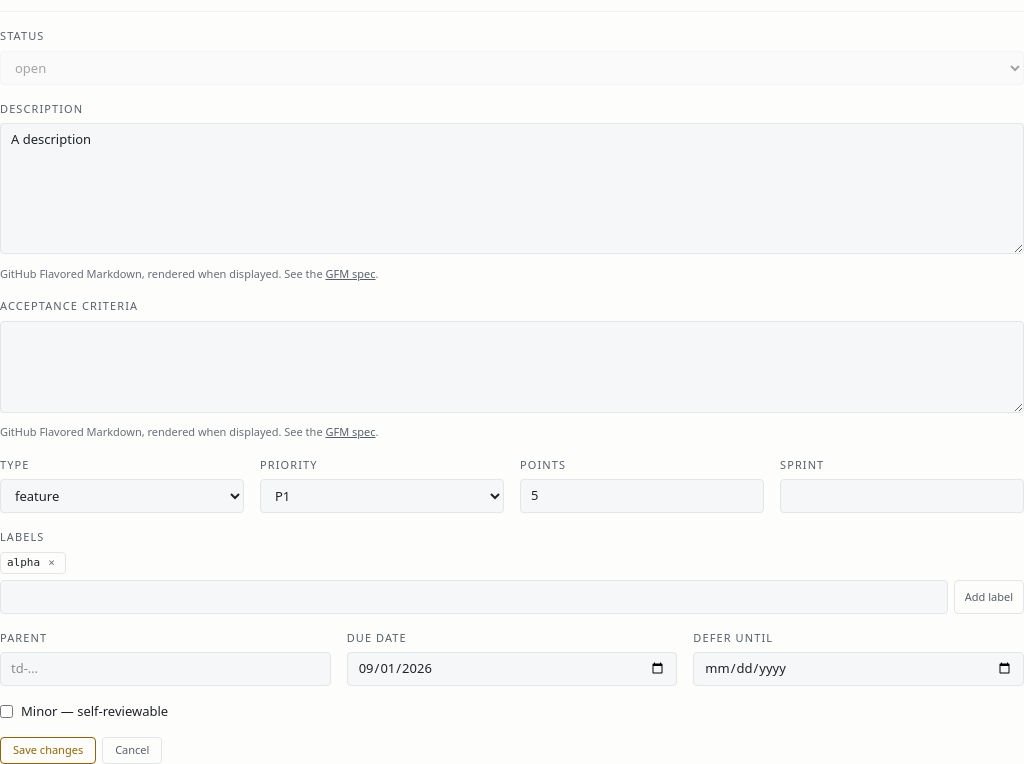
Test: IssueEditForm › shows a field error for a field the form does not bind
(page scrolled)
Click the checkbox labelled "Minor — self-reviewable". click: (6, 711)
box: x1=0 y1=705 x2=13 y2=718
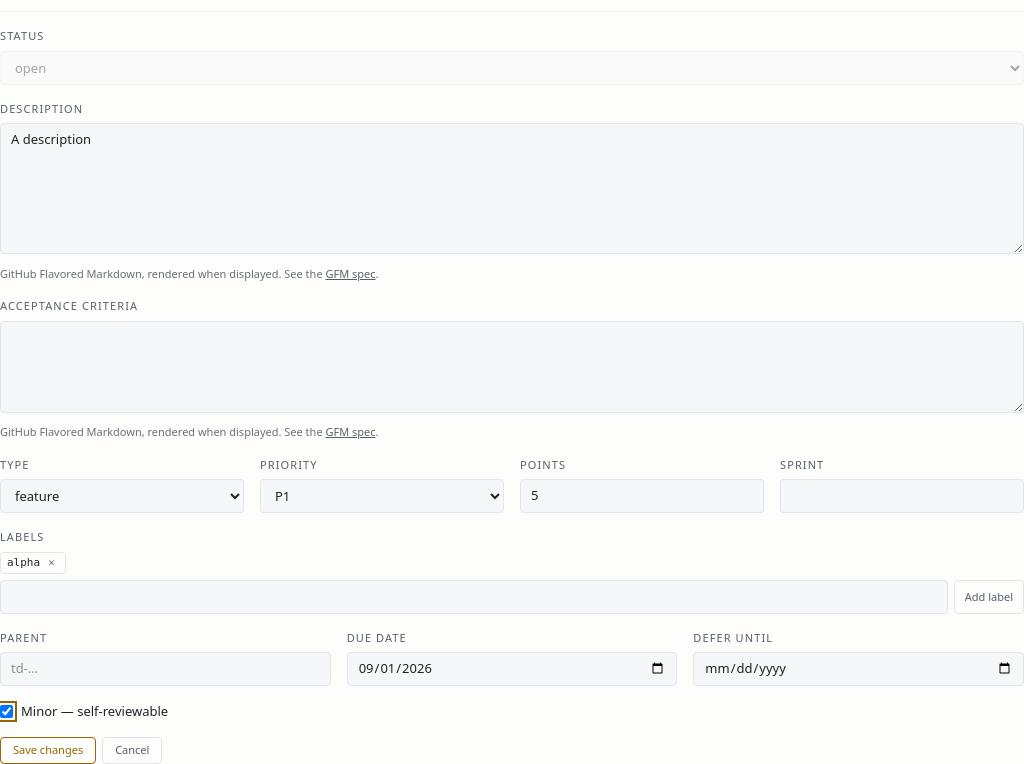
Click the button "Save changes". click: (48, 750)
box: x1=0 y1=737 x2=96 y2=763
(page scrolled)
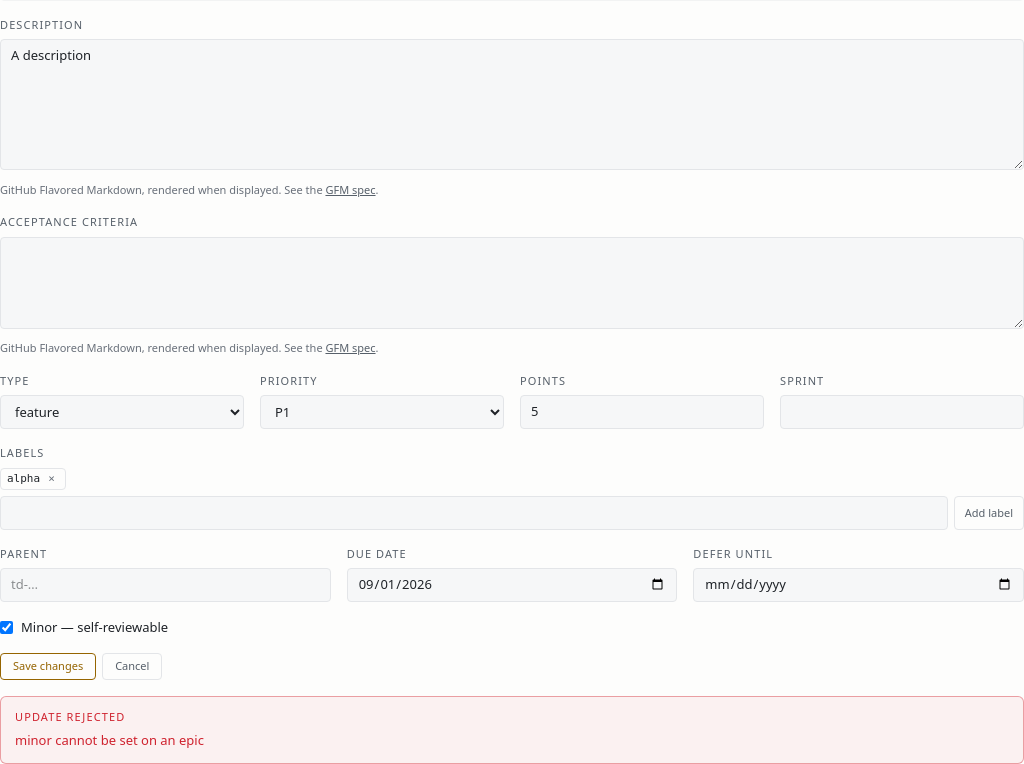
Check: the text "minor cannot be set on an epic" is shown, box x1=15 y1=731 x2=204 y2=749
